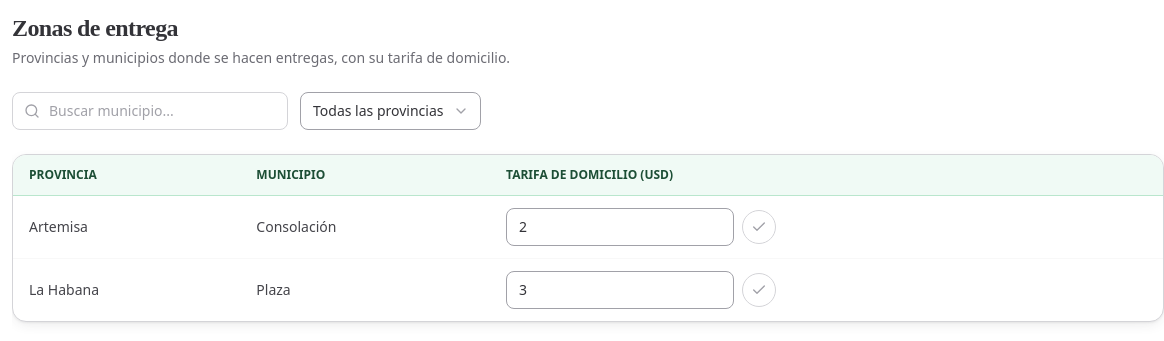
Test: AdminDeliveryZonesPage › filtra los municipios por provincia
Select "Artemisa" in the dropdown named "filtrar por provincia" at x=390, y=111, box x1=300 y1=92 x2=481 y2=130
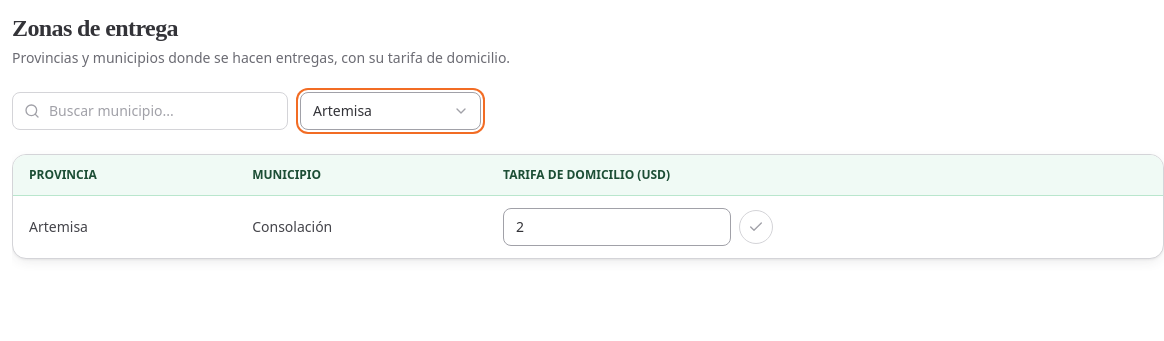
Expected: the text "Consolación" is shown, x1=236 y1=196 x2=487 y2=258
Now the text "Plaza" is gone
